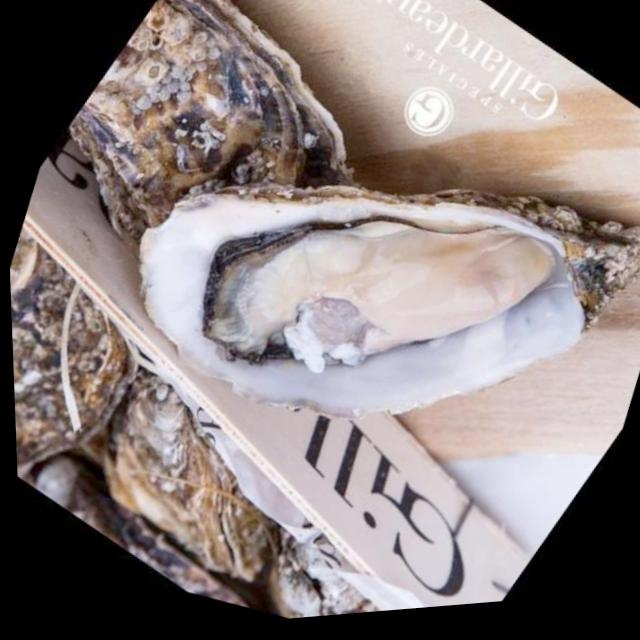Oyster-Indeterminate: (72, 0, 342, 255), (100, 366, 293, 618), (25, 246, 134, 457), (12, 303, 119, 482)
Oyster-Open: (136, 190, 640, 413)
